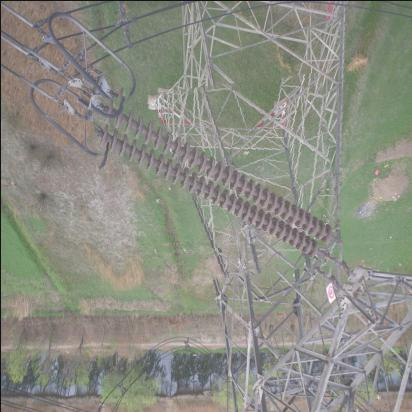insulator: (96, 80, 338, 286)
